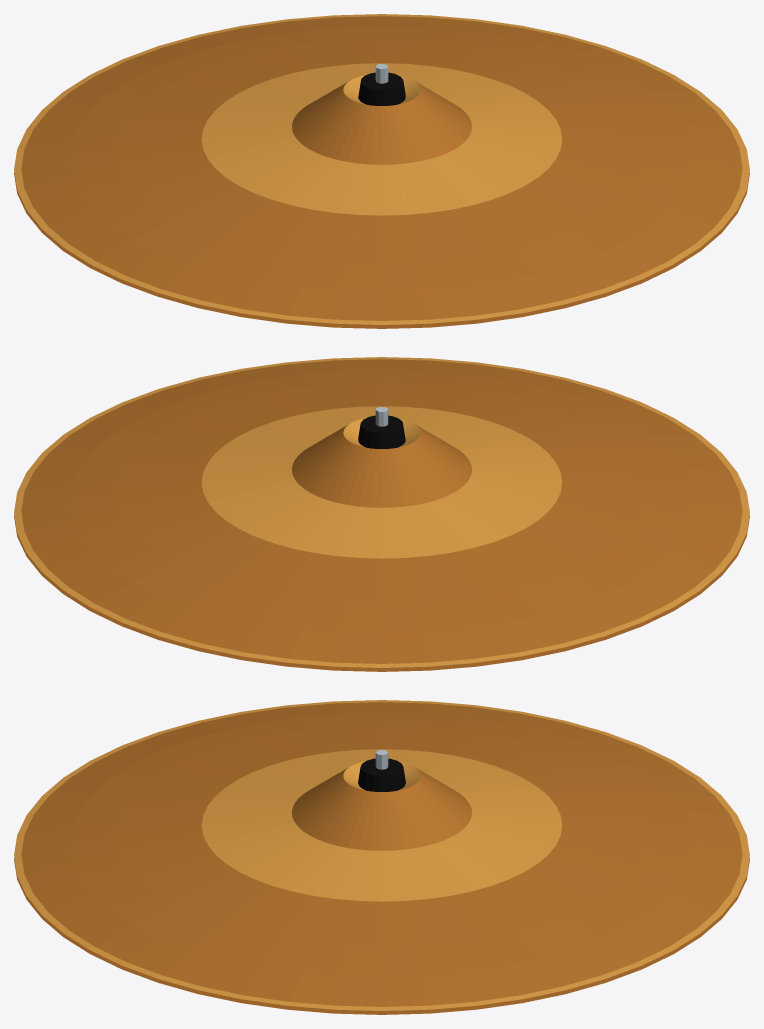
The model's file is CrashCymbal.obj.
3 views of the same model, one above another, from view 1: azimuth 30°, elevation 25°; view 2: azimuth 150°, elevation 25°; view 3: azimuth 270°, elevation 25° (orthographic).
Size of the model in its own units: 0.686 by 0.11 by 0.686.
